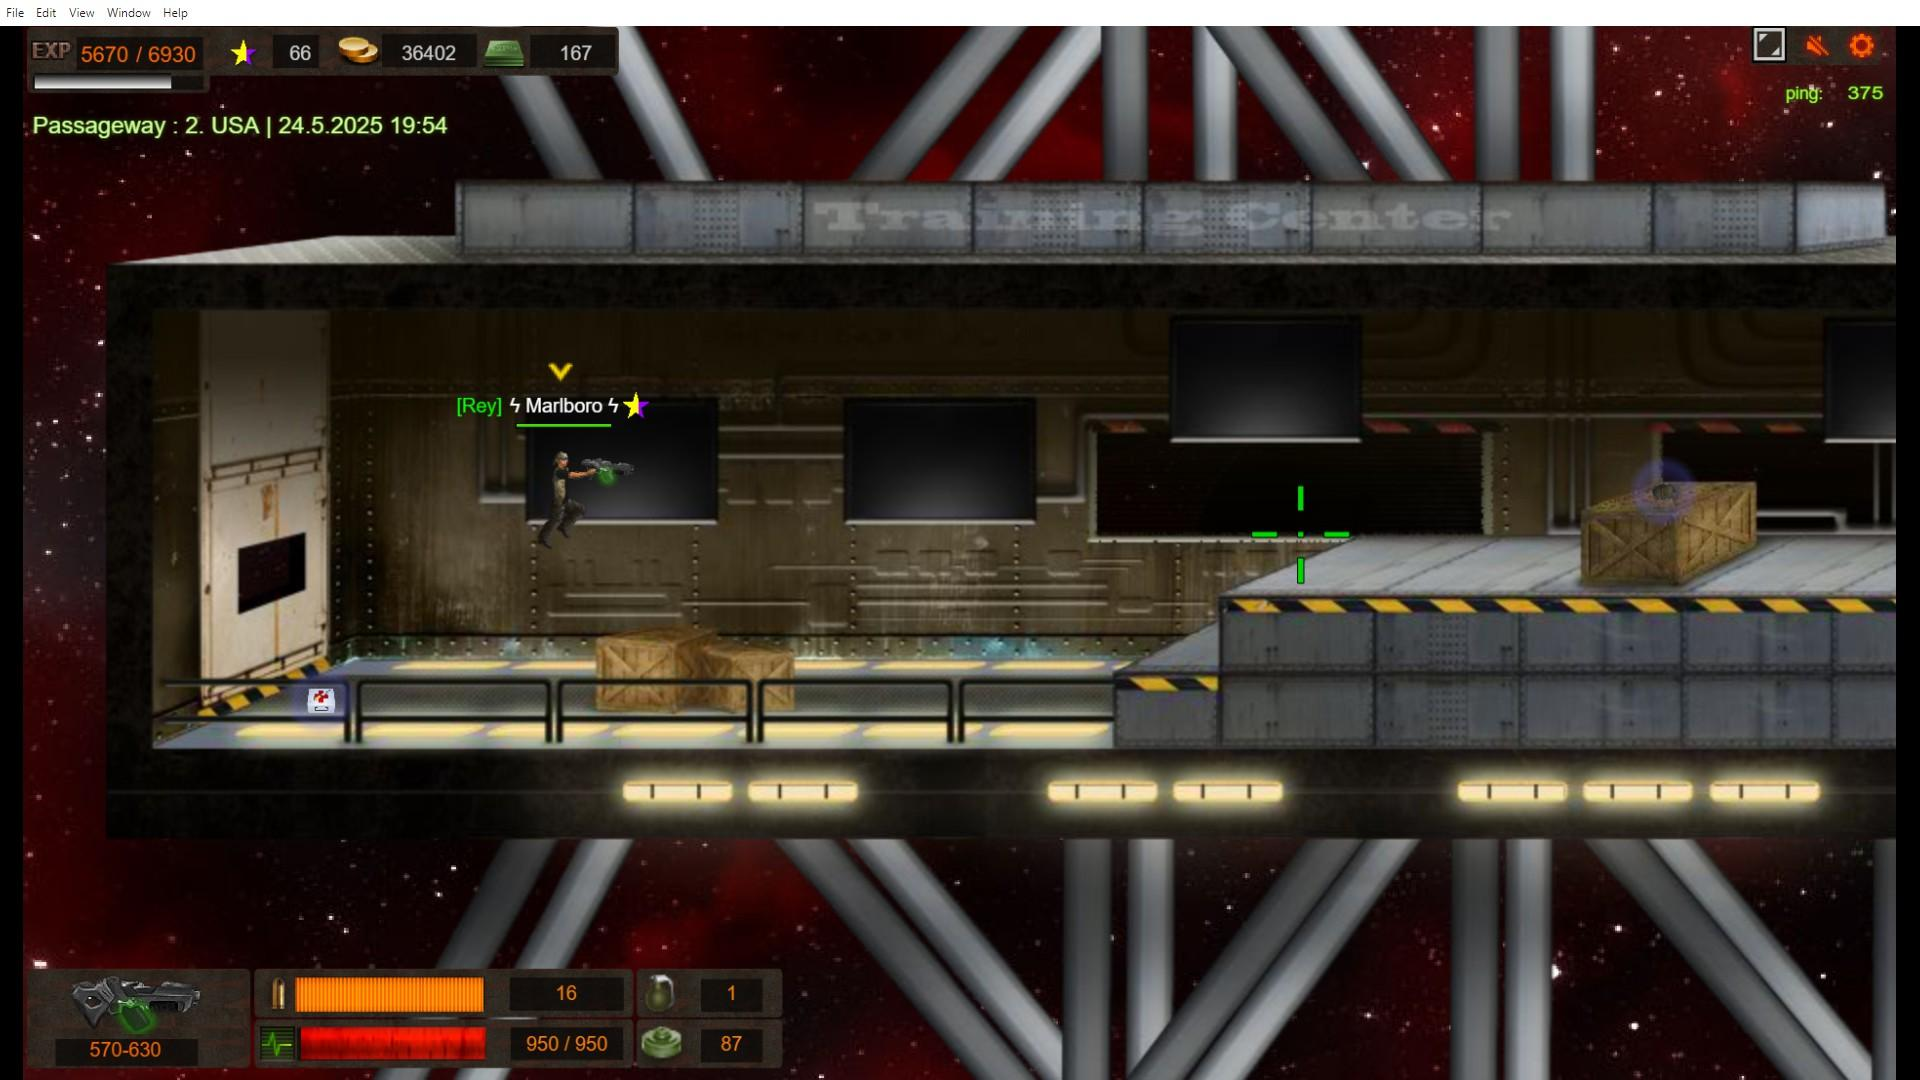enemy: (546, 452, 575, 549)
